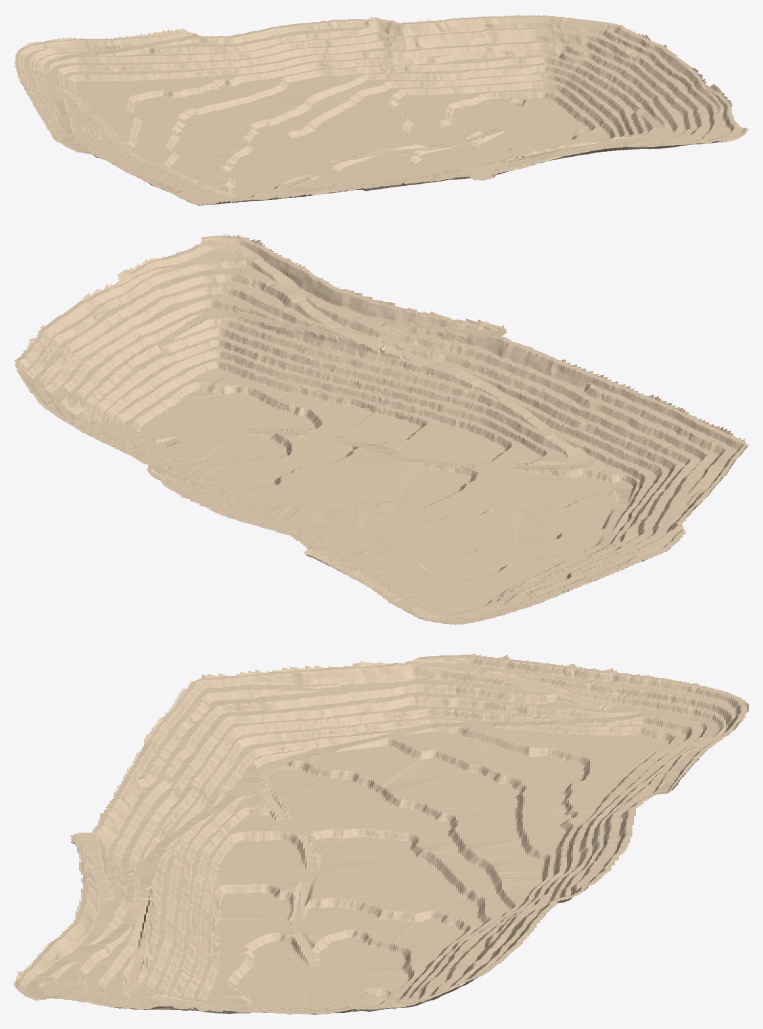
The model's file is pit_06.glb.
3 renders of one model, top to bottom at view 1: azimuth 30°, elevation 25°; view 2: azimuth 150°, elevation 25°; view 3: azimuth 270°, elevation 25°, orthographic. The views are drawn at different scales.
Size of the model in its own units: 2230 by 187 by 1920.
